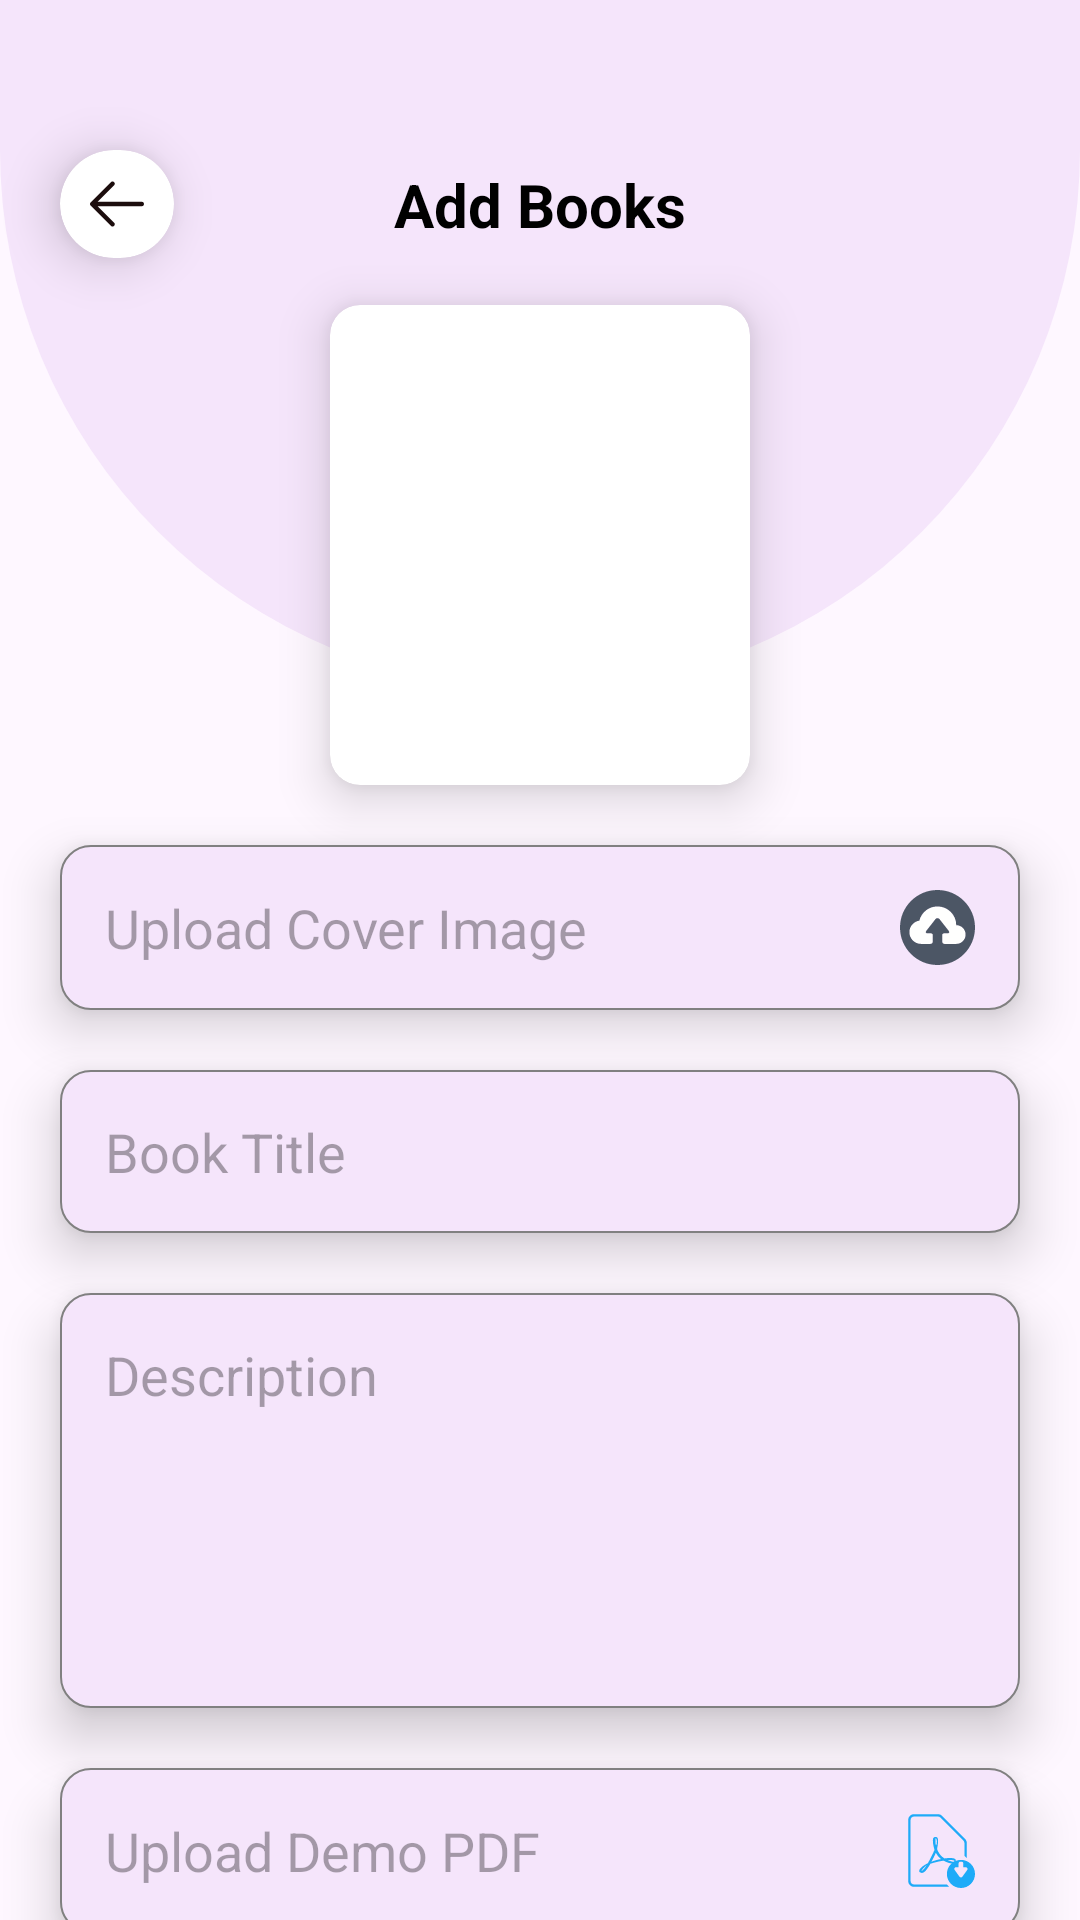

Icons on this 1080 × 1920 Android screen, each with the point to tap as point (x, y):
back: point (117, 204)
